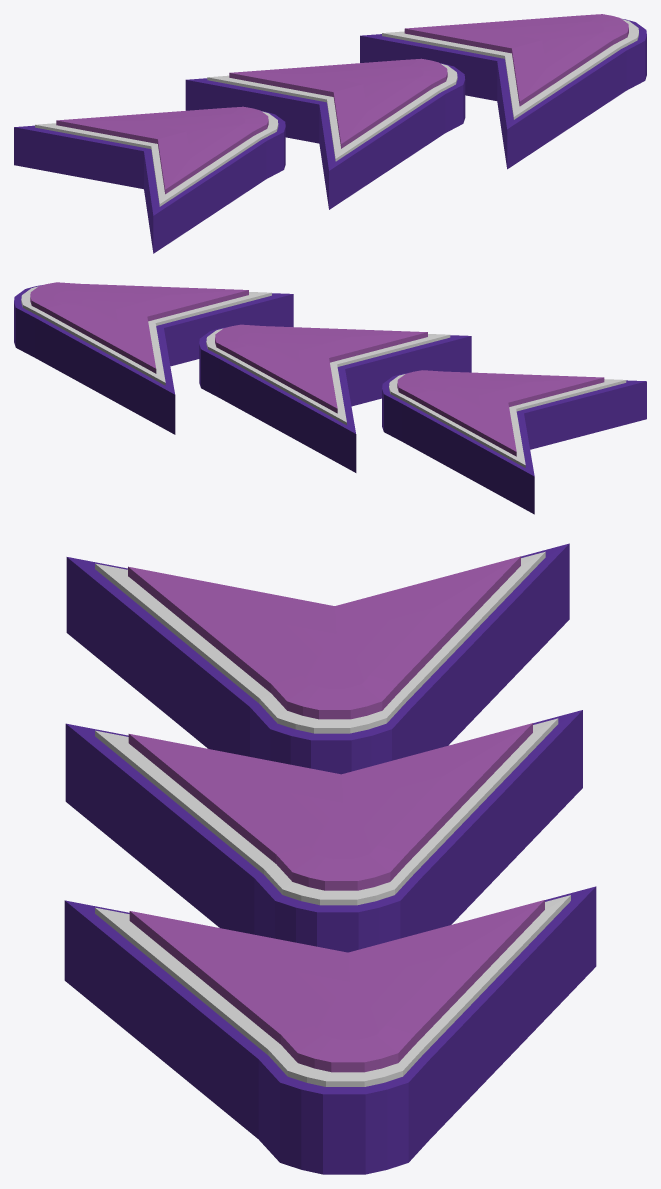
3 renders of one model, top to bottom at view 1: azimuth 30°, elevation 25°; view 2: azimuth 150°, elevation 25°; view 3: azimuth 270°, elevation 25°, orthographic. The views are drawn at different scales.
Parts seen in each view (by area): view 1: node_MeshObject781117440-PolyPaper21; view 2: node_MeshObject781117440-PolyPaper21; view 3: node_MeshObject781117440-PolyPaper21.
Boxes of the visible parts, <box> form: node_MeshObject781117440-PolyPaper21: <box>14,14,646,253</box>; node_MeshObject781117440-PolyPaper21: <box>14,282,646,514</box>; node_MeshObject781117440-PolyPaper21: <box>64,543,596,1174</box>.
Bounding box in the file's own units: 2.38 × 0.21 × 0.96.
